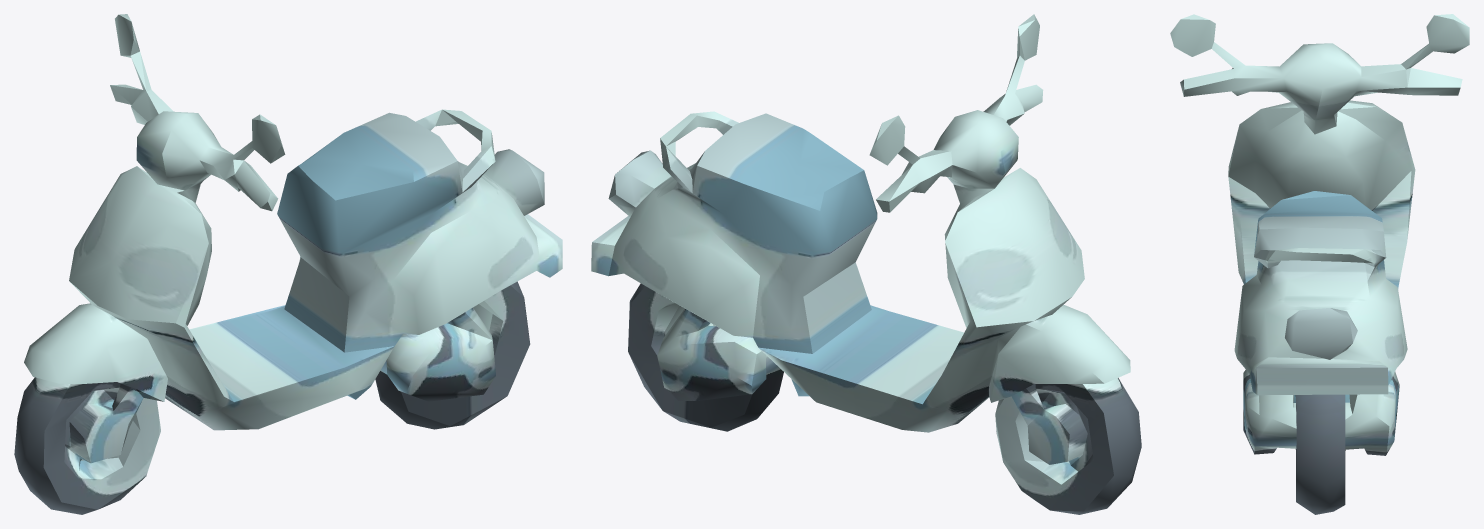
3 renders of one model, left to right at view 1: azimuth 30°, elevation 25°; view 2: azimuth 150°, elevation 25°; view 3: azimuth 270°, elevation 25°, orthographic. The views are drawn at different scales.
Visible parts, largest first — view 1: Decor_motorcycle_a; view 2: Decor_motorcycle_a; view 3: Decor_motorcycle_a.
Part boxes in pixels (x1,y1,x2,y2): Decor_motorcycle_a: (14,14,562,514); Decor_motorcycle_a: (591,14,1141,514); Decor_motorcycle_a: (1170,14,1469,514).
Size of the model in its own units: 1.39 by 1.09 by 0.7845.
Materials: 1 (1 with a texture image).
